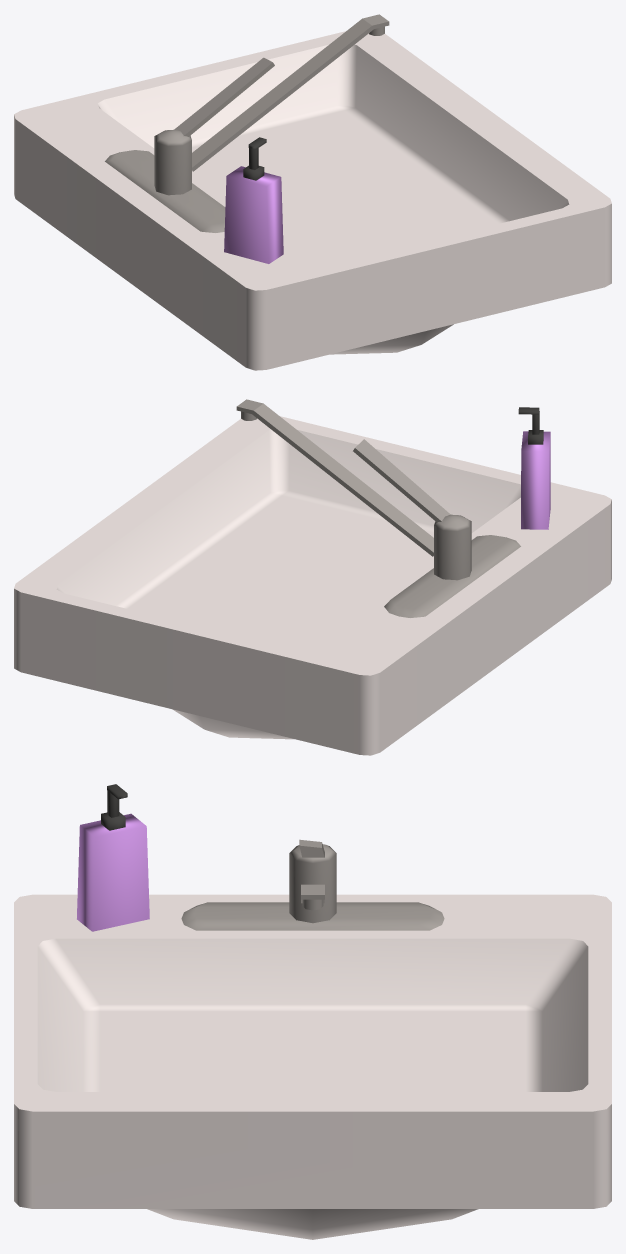
The model's file is Bathroom_Sink.fbx.
The picture shows the model from 3 angles, top to bottom: view 1: azimuth 30°, elevation 25°; view 2: azimuth 150°, elevation 25°; view 3: azimuth 270°, elevation 25°; orthographic projection. The views are drawn at different scales.
Parts seen in each view (by area): view 1: Bathroom_Sink; view 2: Bathroom_Sink; view 3: Bathroom_Sink.
Boxes of the visible parts, x1,y1,x2,y2 form: Bathroom_Sink: (14,14,611,370); Bathroom_Sink: (14,399,611,755); Bathroom_Sink: (14,784,611,1239).
Bounding box in the file's own units: 54.49 × 40.31 × 63.5.
